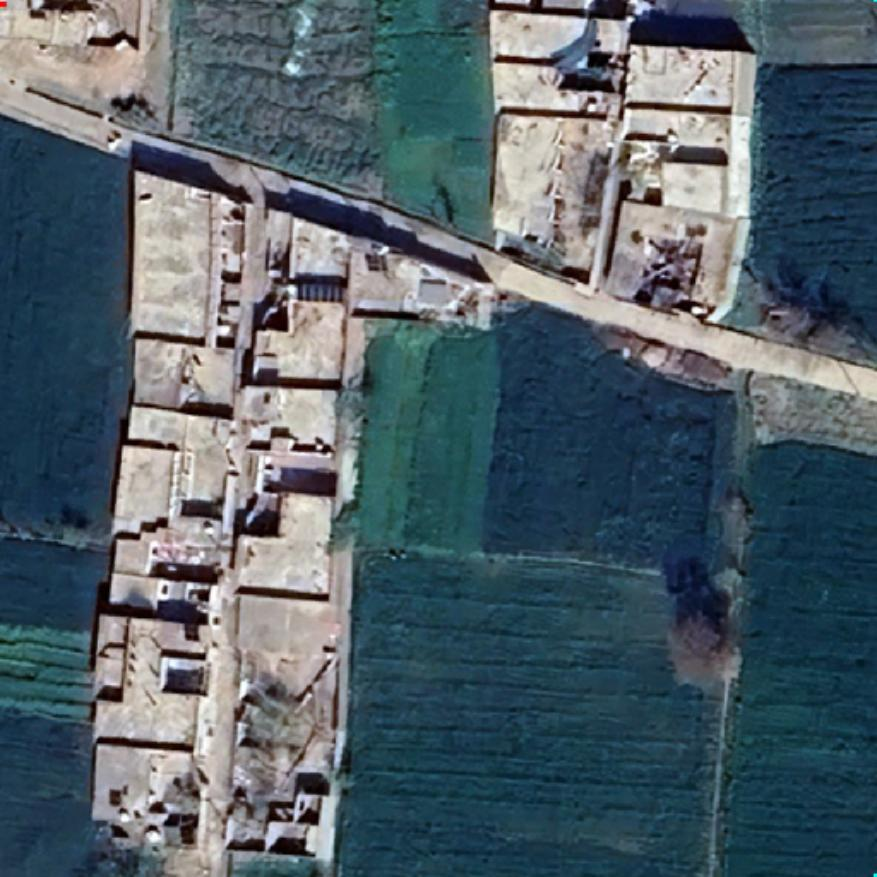Solarpanel: (290, 278, 350, 306)
